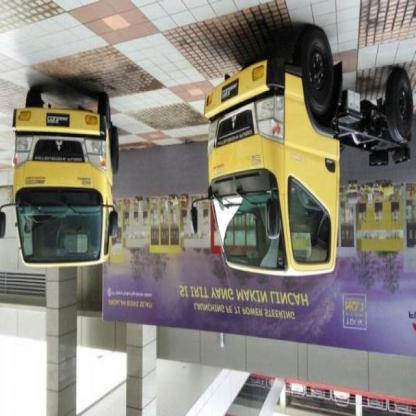truck: (192, 31, 416, 281), (1, 86, 117, 267)
